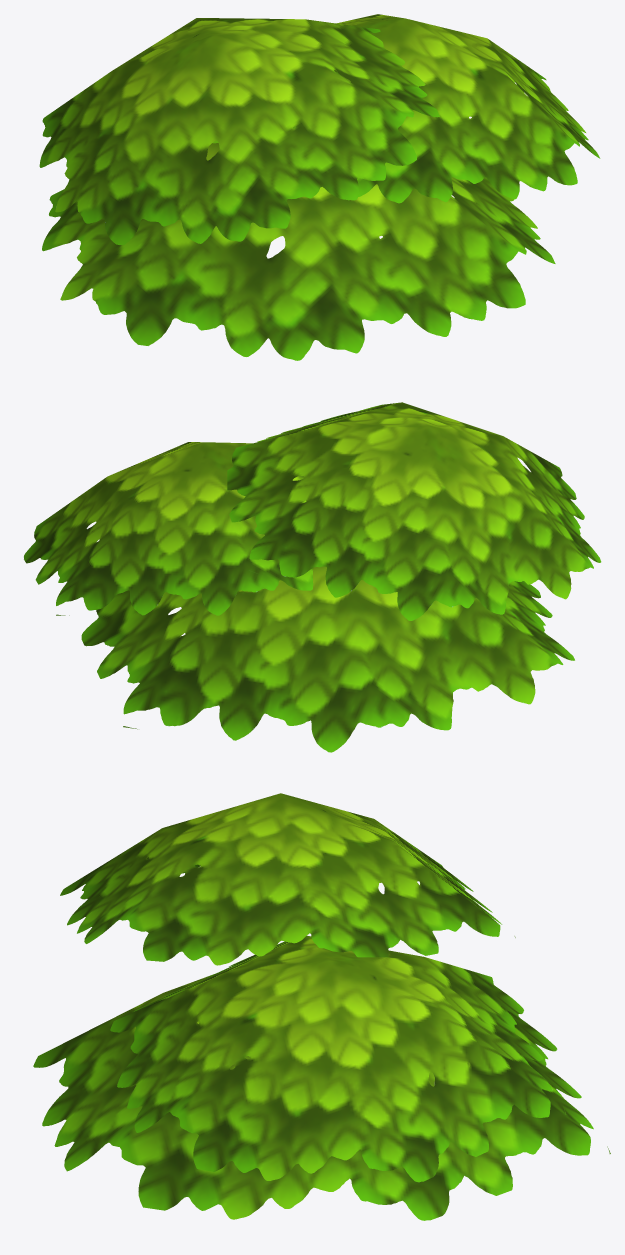
The model's file is Bush_07a.FBX.
The picture shows the model from 3 angles, top to bottom: view 1: azimuth 30°, elevation 25°; view 2: azimuth 150°, elevation 25°; view 3: azimuth 270°, elevation 25°; orthographic projection. The views are drawn at different scales.
Parts seen in each view (by area): view 1: Bush_07a; view 2: Bush_07a; view 3: Bush_07a.
Part boxes in pixels (x1=…): Bush_07a: x1=39, y1=14, x2=600, y2=360; Bush_07a: x1=24, y1=402, x2=601, y2=752; Bush_07a: x1=33, y1=793, x2=610, y2=1220.
Size of the model in its own units: 1.29 by 0.5466 by 1.09.
